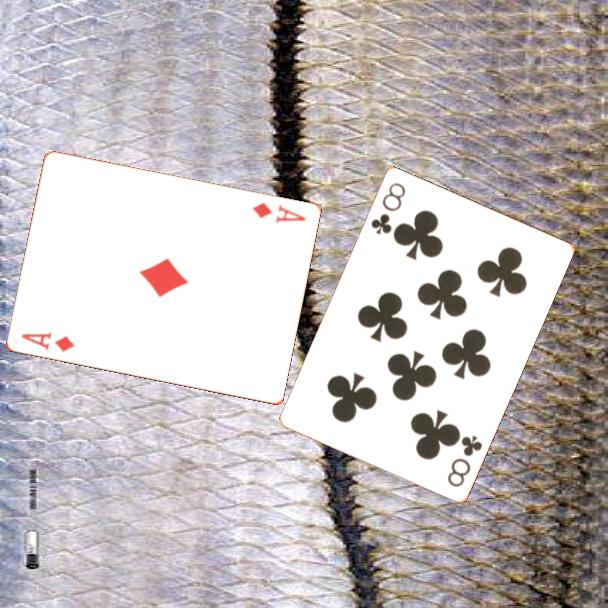c08: (444, 431, 485, 490), (367, 179, 408, 237)
d01: (248, 199, 309, 226), (17, 329, 77, 355)
